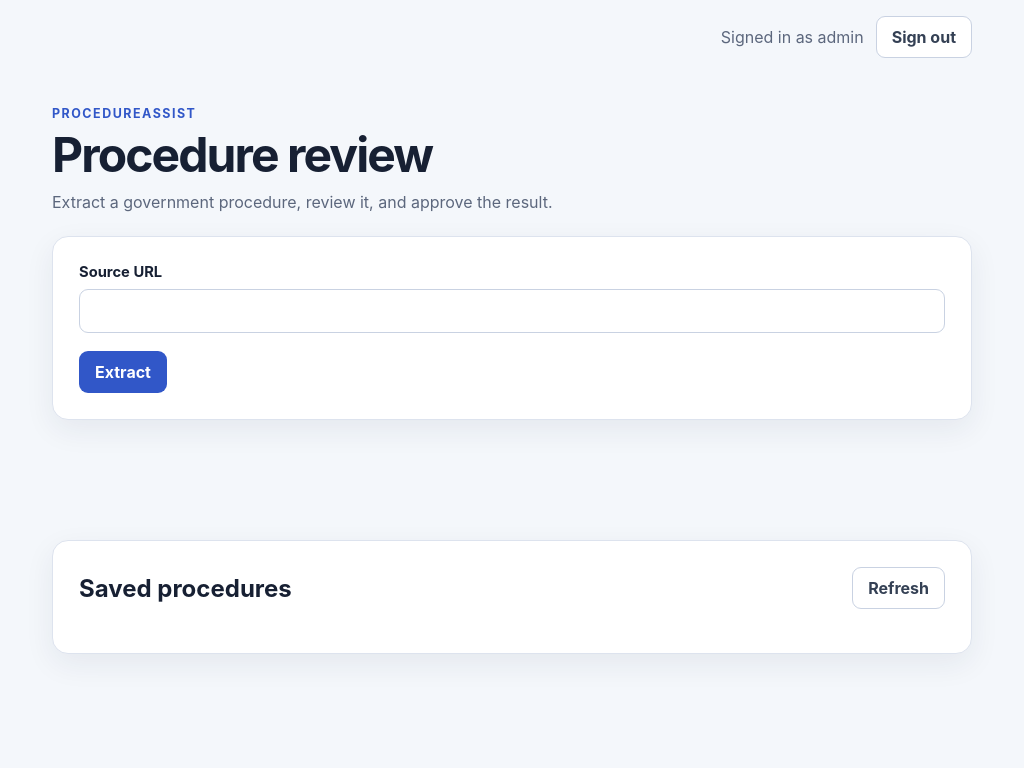
it: admin sign in › signs out
The width and height of the screenshot is (1024, 768).
Click the button "Sign out" at (924, 37), box [876, 16, 972, 58]
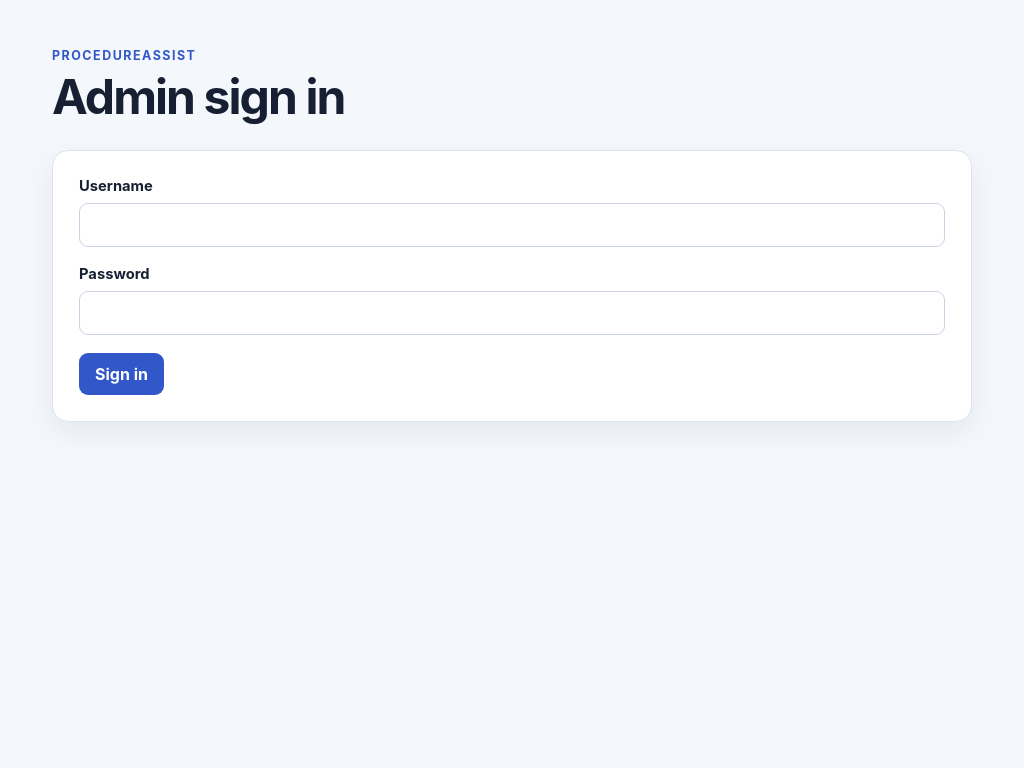
Check: the heading "Admin sign in" is shown, box [52, 67, 344, 126]
